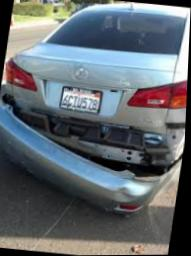Bumper: (0, 94, 183, 216)
